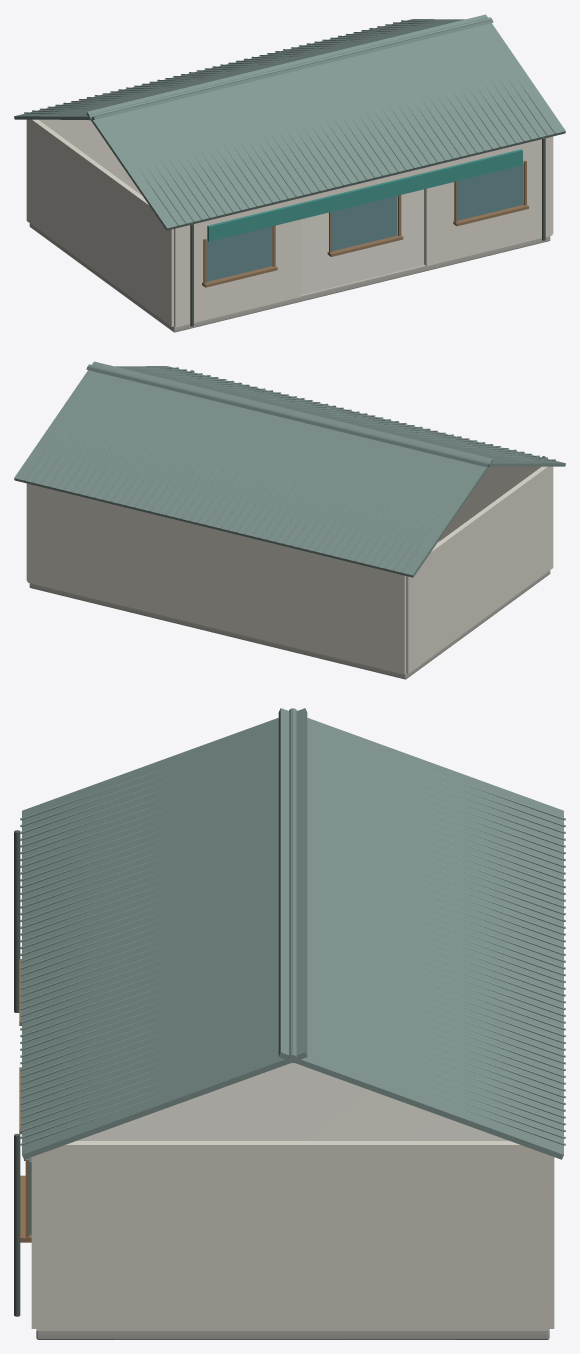
File: post.glb
3 renders of one model, top to bottom at view 1: azimuth 30°, elevation 25°; view 2: azimuth 150°, elevation 25°; view 3: azimuth 270°, elevation 25°, orthographic. The views are drawn at different scales.
Parts seen in each view (by area): view 1: roof, plaster, concrete, glass, teal, wood, steel; view 2: roof, plaster, concrete; view 3: roof, plaster, concrete, steel, wood.
Boxes of the visible parts, x1,y1,x2,y2 form: roof: [14, 14, 565, 230]; plaster: [26, 119, 553, 327]; concrete: [29, 189, 550, 332]; glass: [206, 164, 523, 281]; teal: [207, 149, 522, 241]; wood: [202, 160, 528, 287]; steel: [190, 137, 545, 326]; roof: [14, 361, 565, 577]; plaster: [26, 466, 553, 674]; concrete: [29, 541, 550, 679]; roof: [20, 708, 565, 1159]; plaster: [31, 1141, 554, 1330]; concrete: [36, 1063, 549, 1339]; steel: [14, 830, 20, 1316]; wood: [19, 959, 31, 1242].
Bounding box in the file's own units: 12.8 × 5.13 × 8.61.
